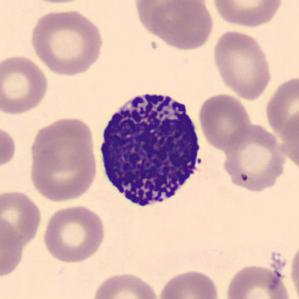Basophil: (91, 82, 210, 218)
RBC: (28, 7, 106, 76), (219, 121, 289, 194), (27, 136, 99, 204), (210, 28, 274, 101), (28, 114, 98, 173), (41, 204, 107, 264), (145, 0, 215, 51), (197, 91, 253, 152), (0, 54, 50, 116), (222, 261, 295, 299), (0, 188, 43, 247), (264, 73, 298, 141), (132, 0, 192, 37), (156, 267, 222, 299), (210, 0, 285, 28), (89, 270, 160, 299), (0, 219, 25, 280), (275, 111, 299, 166), (0, 121, 17, 171), (288, 234, 298, 299), (22, 0, 94, 7)
